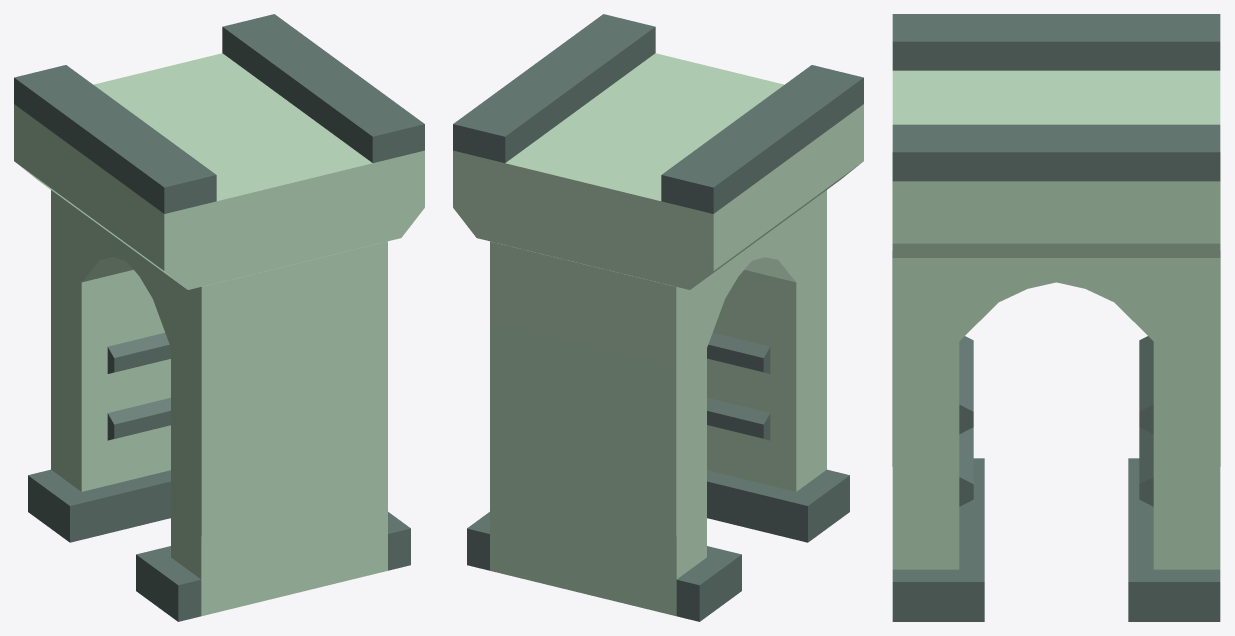
File: Bridge1Meter.fbx
3 views of the same model, side by side, from view 1: azimuth 30°, elevation 25°; view 2: azimuth 150°, elevation 25°; view 3: azimuth 270°, elevation 25° (orthographic). The views are drawn at different scales.
Parts seen in each view (by area): view 1: Bridge1Meter; view 2: Bridge1Meter; view 3: Bridge1Meter.
Part boxes in pixels (<box>): Bridge1Meter: <box>14,14,424,621</box>; Bridge1Meter: <box>453,14,863,621</box>; Bridge1Meter: <box>892,14,1220,621</box>.
Size of the model in its own units: 1 by 1.61 by 1.
